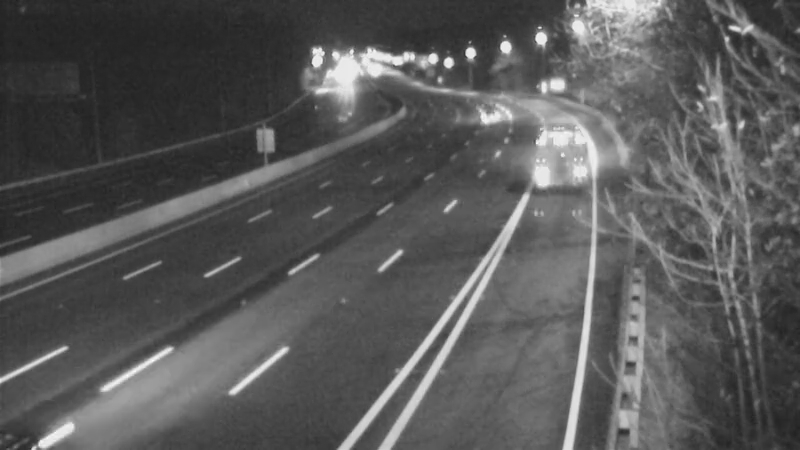vehicle: (460, 91, 510, 141), (532, 123, 582, 173)
